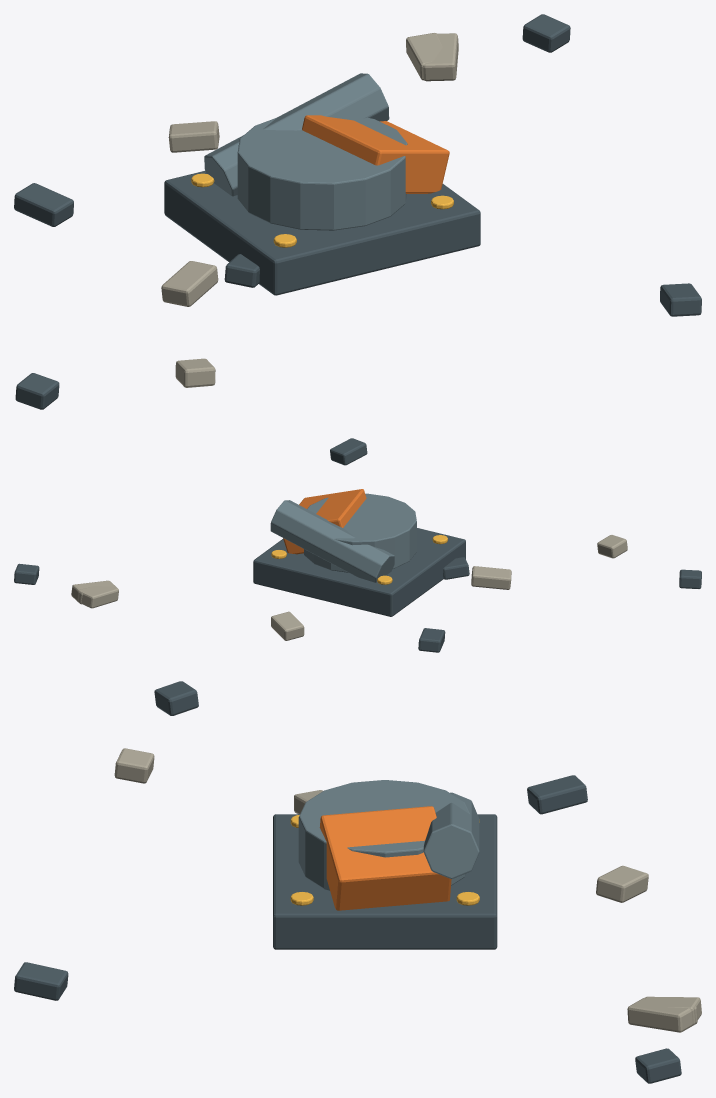
Rendered from robotic_arm_d3.glb.
3 renders of one model, top to bottom at view 1: azimuth 30°, elevation 25°; view 2: azimuth 150°, elevation 25°; view 3: azimuth 270°, elevation 25°, orthographic. The views are drawn at different scales.
Visible parts, largest first — view 1: Robot mounting plinth.035, Azimuth bearing.035, Broken actuator casing.008, Fallen robot link.008, Debris fragment.033, Debris fragment.030, Debris fragment.037, Debris fragment.036, Debris fragment.039, Debris fragment.032, Debris fragment.034, Debris fragment.031 (+2 smaller); view 2: Robot mounting plinth.035, Fallen robot link.008, Azimuth bearing.035, Broken actuator casing.008, Debris fragment.033, Debris fragment.035, Debris fragment.037, Debris fragment.032, Debris fragment.030, Debris fragment.031, Debris fragment.036, Debris fragment.038 (+1 smaller); view 3: Robot mounting plinth.035, Broken actuator casing.008, Azimuth bearing.035, Fallen robot link.008, Debris fragment.030, Debris fragment.039, Debris fragment.032, Debris fragment.037, Debris fragment.036, Debris fragment.034, Debris fragment.031, Debris fragment.035.
Part boxes in pixels (x1,y1,x2,y2): Robot mounting plinth.035: [164, 171, 480, 295]; Azimuth bearing.035: [237, 117, 407, 230]; Broken actuator casing.008: [302, 115, 449, 193]; Fallen robot link.008: [204, 73, 389, 196]; Debris fragment.033: [161, 261, 218, 306]; Debris fragment.030: [14, 183, 73, 226]; Debris fragment.037: [168, 121, 219, 152]; Debris fragment.036: [522, 14, 570, 52]; Debris fragment.039: [423, 33, 458, 81]; Debris fragment.032: [660, 283, 701, 316]; Debris fragment.034: [15, 373, 59, 409]; Debris fragment.031: [175, 358, 215, 387]; Robot mounting plinth.035: [253, 528, 465, 616]; Fallen robot link.008: [270, 500, 394, 582]; Azimuth bearing.035: [303, 493, 416, 572]; Broken actuator casing.008: [283, 489, 366, 554]; Debris fragment.033: [471, 566, 511, 589]; Debris fragment.035: [77, 586, 118, 608]; Debris fragment.037: [271, 611, 304, 640]; Debris fragment.032: [330, 438, 367, 465]; Debris fragment.030: [418, 628, 445, 652]; Debris fragment.031: [597, 535, 627, 558]; Debris fragment.036: [14, 563, 39, 584]; Debris fragment.038: [443, 557, 469, 579]; Robot mounting plinth.035: [273, 814, 497, 949]; Broken actuator casing.008: [319, 806, 451, 910]; Azimuth bearing.035: [298, 780, 469, 890]; Fallen robot link.008: [423, 792, 479, 878]; Debris fragment.030: [527, 775, 587, 814]; Debris fragment.039: [627, 997, 697, 1032]; Debris fragment.032: [14, 962, 68, 1000]; Debris fragment.037: [596, 865, 648, 902]; Debris fragment.036: [635, 1048, 681, 1083]; Debris fragment.034: [154, 681, 198, 715]; Debris fragment.031: [114, 748, 154, 783]; Debris fragment.035: [644, 996, 701, 1025].
Bounding box in the file's own units: 5.49 × 0.7711 × 4.14.
